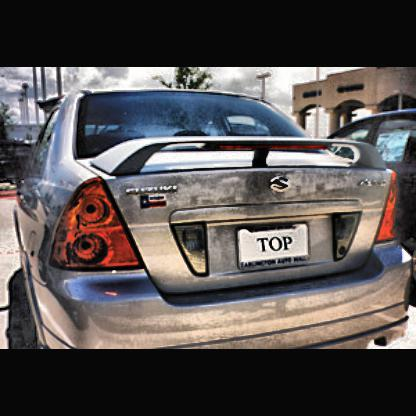Suzuki Aerio Sedan 2007: (13, 89, 415, 349)
